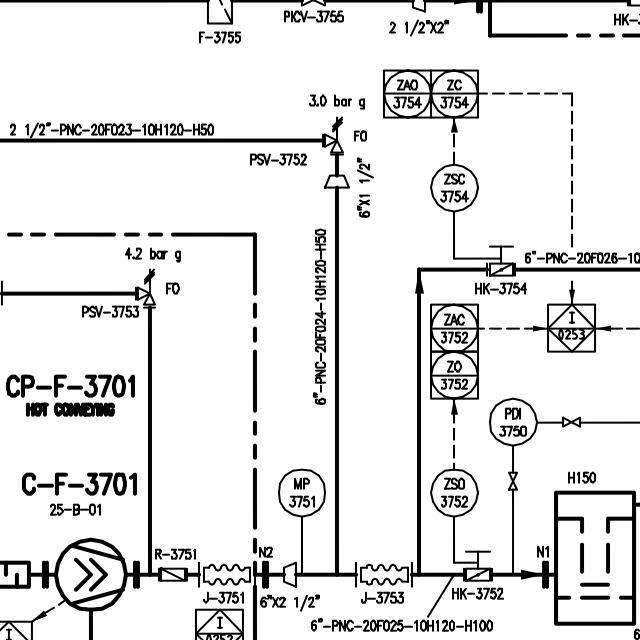BV: (482, 241, 520, 278), (460, 547, 496, 584)
C: (54, 535, 128, 612)
CV2: (156, 565, 189, 583)
EJ: (352, 559, 416, 589), (195, 558, 257, 587)
FT1: (551, 487, 638, 630)
GV: (560, 413, 583, 431), (506, 469, 520, 492)
RPV: (320, 113, 346, 158), (134, 265, 158, 311)
SP: (324, 172, 350, 192), (282, 560, 298, 588)
